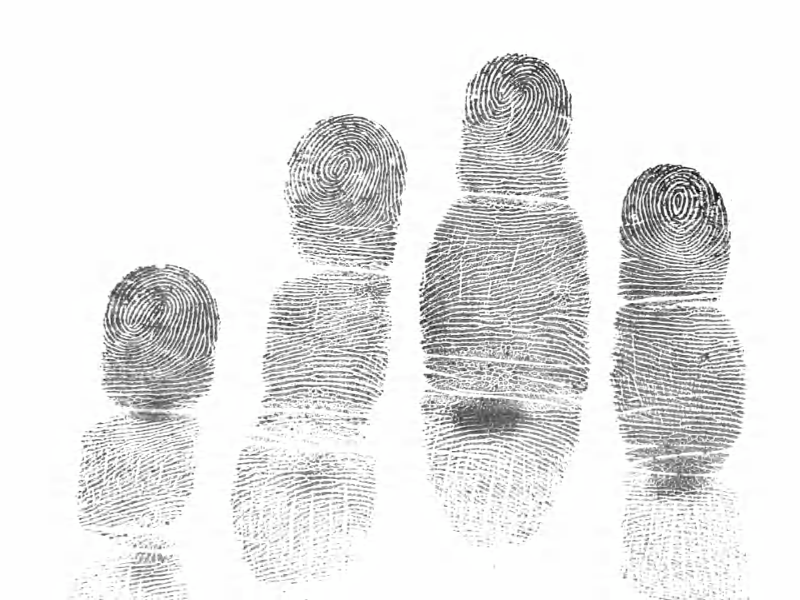distal: (276, 101, 416, 271), (94, 260, 228, 414), (454, 49, 580, 198), (613, 159, 739, 306)
proximal: (418, 195, 597, 405), (608, 302, 756, 468), (254, 270, 394, 438), (65, 408, 205, 544)
